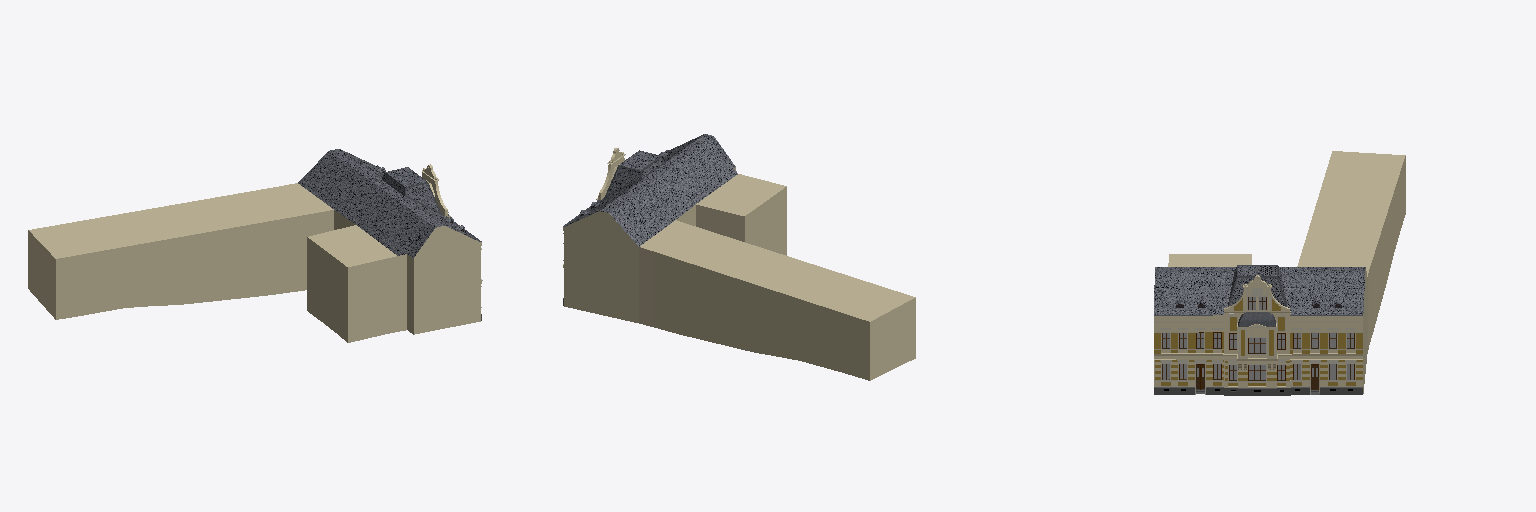
3 renders of one model, left to right at view 1: azimuth 30°, elevation 25°; view 2: azimuth 150°, elevation 25°; view 3: azimuth 270°, elevation 25°, orthographic.
Visible parts, largest first — view 1: Mesh01; view 2: Mesh01; view 3: Mesh01.
Part boxes in pixels (bbox=[...]): Mesh01: bbox=[28, 149, 482, 342]; Mesh01: bbox=[563, 134, 915, 380]; Mesh01: bbox=[1154, 151, 1405, 395].
Size of the model in its own units: 5.53 by 1.81 by 3.46.
14 materials, 3 textured.